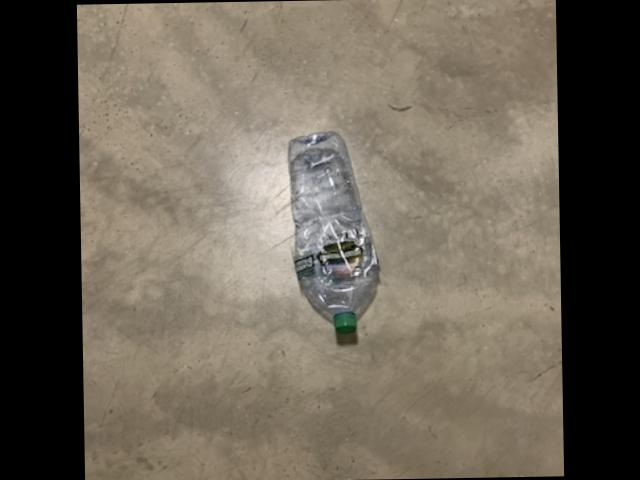plastic: (286, 134, 375, 322)
